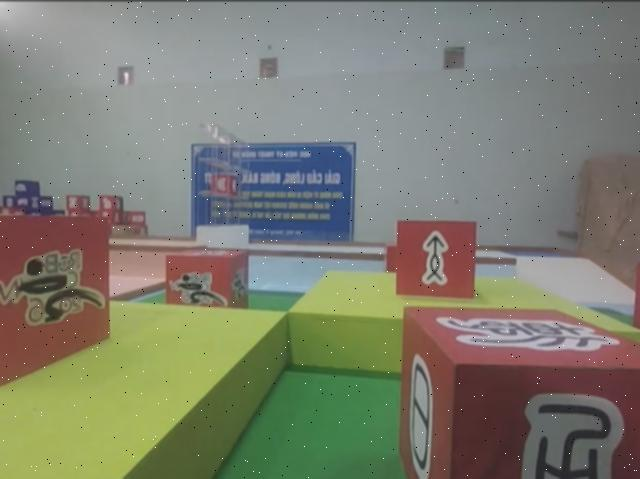R1: (0, 214, 114, 389), (165, 251, 250, 309)
R2 Fake: (398, 304, 640, 479)
R2 Real: (394, 217, 480, 300)
